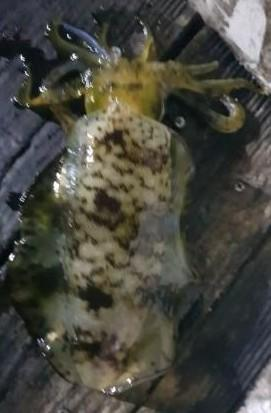Cephalopod: (9, 22, 249, 393)
